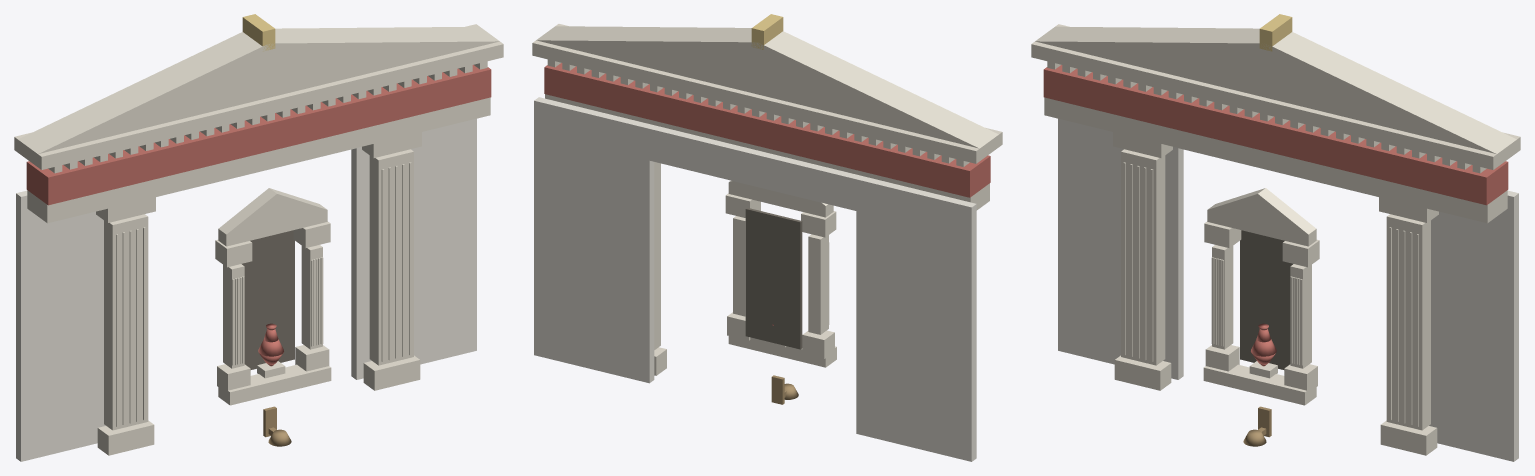
File: greek.glb
The picture shows the model from 3 angles, left to right: view 1: azimuth 30°, elevation 25°; view 2: azimuth 150°, elevation 25°; view 3: azimuth 330°, elevation 25°; orthographic projection. The views are drawn at different scales.
Visible parts, largest first — view 1: Stone_pediment, Marble_backL, Marble_backR, Poly_frieze, Stone_architrave, Stone_cornice, Stone_shaft.001, Stone_shaft, Dark_aedBack, Stone_aedPed, Stone_aedSill, Stone_base.001 (+21 smaller); view 2: Marble_backL, Marble_backR, Stone_pediment, Poly_frieze, Stone_cornice, Marble_backHdr, Dark_aedBack, Stone_architrave, Stone_shaft.002, Stone_shaft.001, Stone_shaft.003, Stone_aedFrieze (+5 smaller); view 3: Stone_pediment, Marble_backR, Marble_backL, Poly_frieze, Stone_architrave, Stone_cornice, Stone_shaft, Stone_shaft.001, Dark_aedBack, Stone_aedPed, Stone_aedSill, Stone_base (+21 smaller).
Boxes of the visible parts, box(x1,y1,x2,y2) form: Stone_pediment: box(18, 26, 499, 153); Marble_backL: box(16, 190, 105, 461); Marble_backR: box(351, 118, 476, 379); Poly_frieze: box(26, 65, 491, 205); Stone_architrave: box(27, 97, 490, 223); Stone_cornice: box(14, 24, 503, 169); Stone_shaft.001: box(369, 149, 413, 365); Stone_shaft: box(104, 214, 148, 430); Dark_aedBack: box(242, 230, 294, 369); Stone_aedPed: box(218, 188, 327, 234); Stone_aedSill: box(218, 364, 331, 405); Stone_base.001: box(363, 355, 420, 390); Marble_backL: box(856, 175, 976, 461); Marble_backR: box(534, 97, 654, 383); Stone_pediment: box(536, 26, 998, 148); Poly_frieze: box(544, 63, 990, 197); Stone_cornice: box(532, 24, 1002, 163); Marble_backHdr: box(649, 125, 860, 210); Dark_aedBack: box(745, 207, 802, 349); Stone_architrave: box(545, 94, 989, 210); Stone_shaft.002: box(808, 234, 828, 334); Stone_shaft.001: box(654, 162, 660, 349); Stone_shaft.003: box(733, 216, 745, 316); Stone_aedFrieze: box(728, 182, 833, 217); Stone_pediment: box(1035, 26, 1516, 153); Marble_backR: box(1429, 190, 1518, 461); Marble_backL: box(1058, 118, 1183, 379); Poly_frieze: box(1043, 65, 1508, 205); Stone_architrave: box(1044, 97, 1507, 223); Stone_cornice: box(1031, 24, 1520, 169); Stone_shaft: box(1121, 149, 1165, 365); Stone_shaft.001: box(1386, 214, 1430, 430); Dark_aedBack: box(1240, 230, 1292, 369); Stone_aedPed: box(1207, 188, 1316, 234); Stone_aedSill: box(1203, 364, 1316, 405); Stone_base: box(1114, 355, 1171, 390).
Size of the model in its own units: 7.3 by 6.1 by 1.15.
